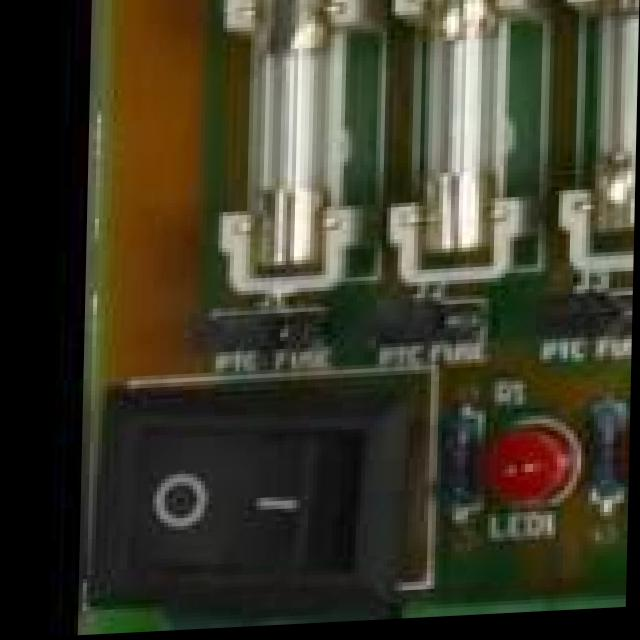LED: (482, 428, 570, 532)
connector: (545, 590, 629, 617), (381, 614, 541, 624)
fuse: (223, 0, 340, 283), (407, 0, 500, 279), (571, 0, 640, 265)
resistor: (442, 404, 483, 534), (594, 406, 632, 537)
switch: (109, 406, 429, 599)
